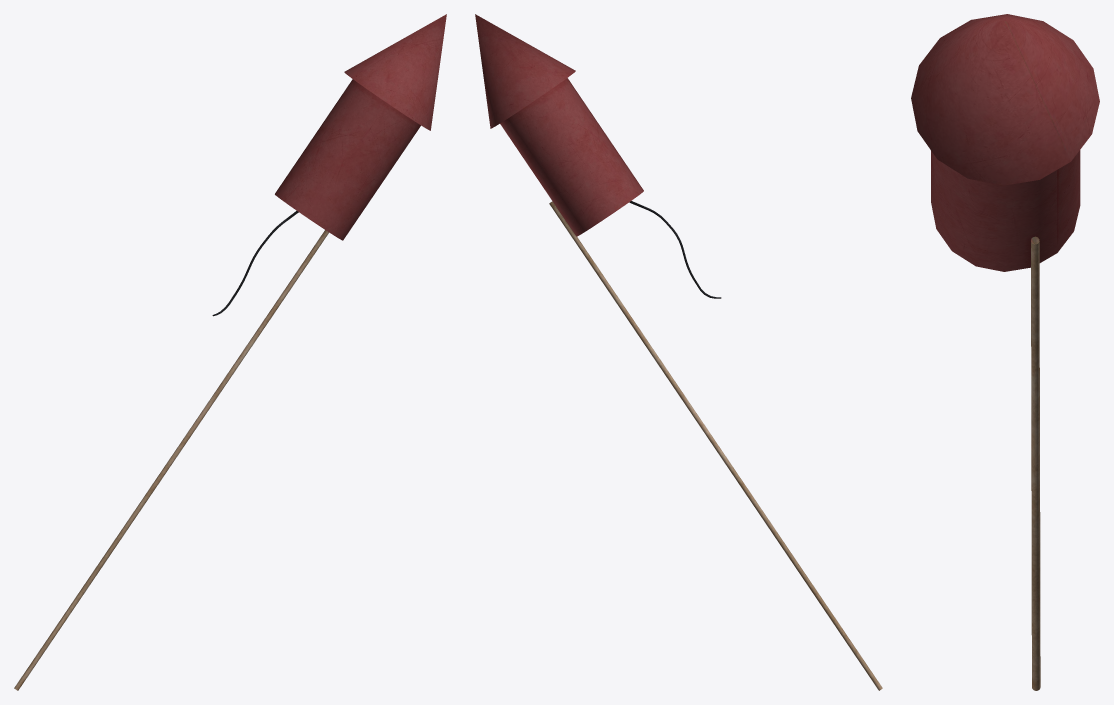
File: firework.fbx
3 views of the same model, side by side, from view 1: azimuth 30°, elevation 25°; view 2: azimuth 150°, elevation 25°; view 3: azimuth 270°, elevation 25° (orthographic). The views are drawn at different scales.
Visible parts, largest first — view 1: firework; view 2: firework; view 3: firework.
Boxes of the visible parts, bbox=[...] form: firework: bbox=[14, 14, 446, 690]; firework: bbox=[475, 14, 882, 690]; firework: bbox=[911, 14, 1099, 690].
Bounding box in the file's own units: 0.9017 × 1.18 × 0.195.
1 material, 1 textured.
